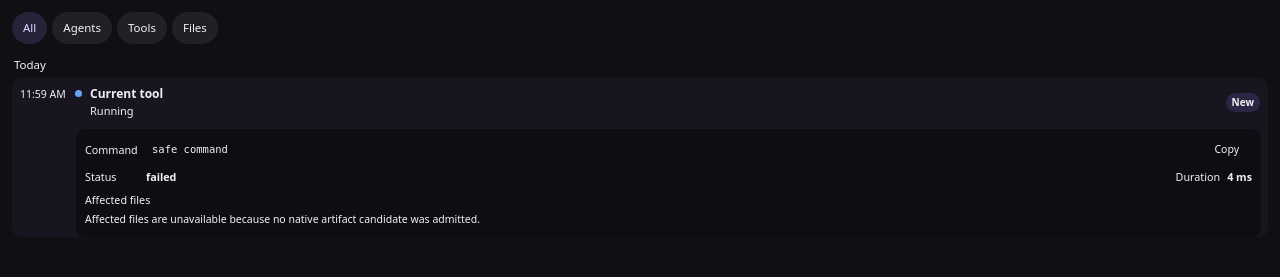
Test: ActivityFeed › keeps copy failure and unavailable raw file evidence bound to the expanded activity
Click the button with aria-label "Copy command". click: (1227, 150)
box: [1208,138,1245,162]
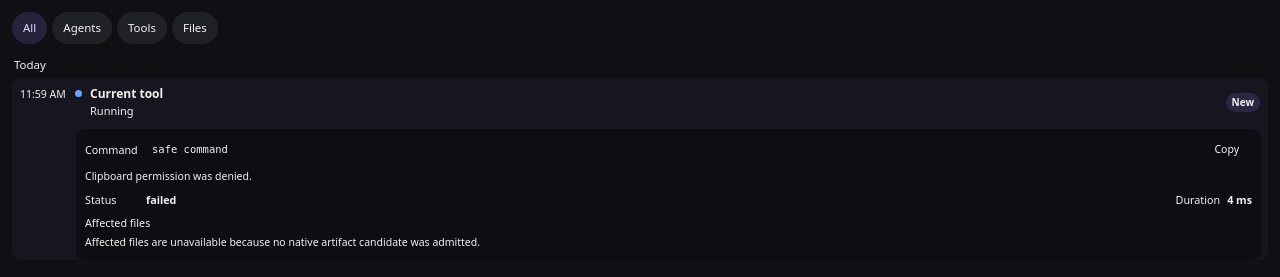
Expected: the element titled "safe command" is shown, [152,143,228,155]
Expected: the message reads "Clipboard permission was denied.", [85,169,252,183]
